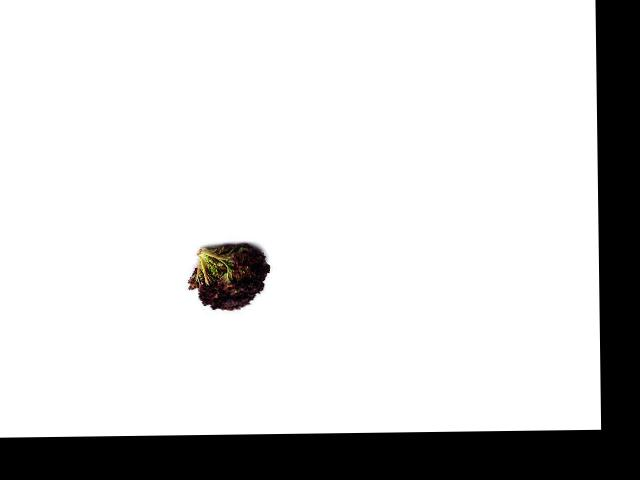lettuce: (192, 238, 274, 313)
